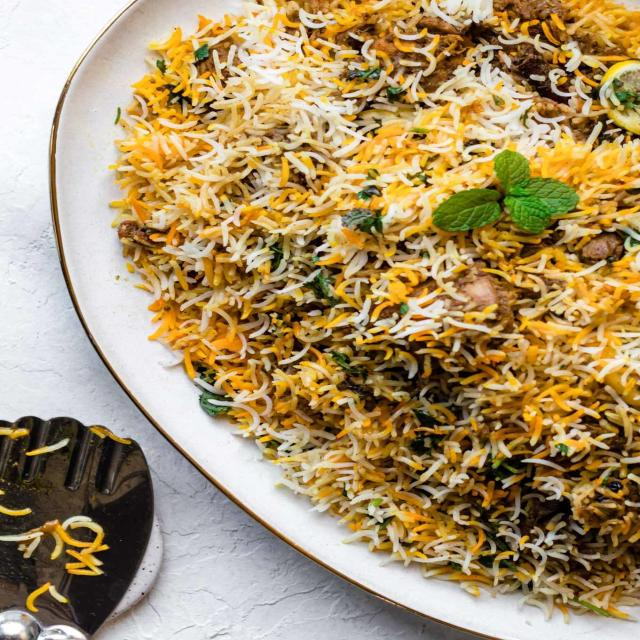chicken biryani: (142, 27, 640, 612)
